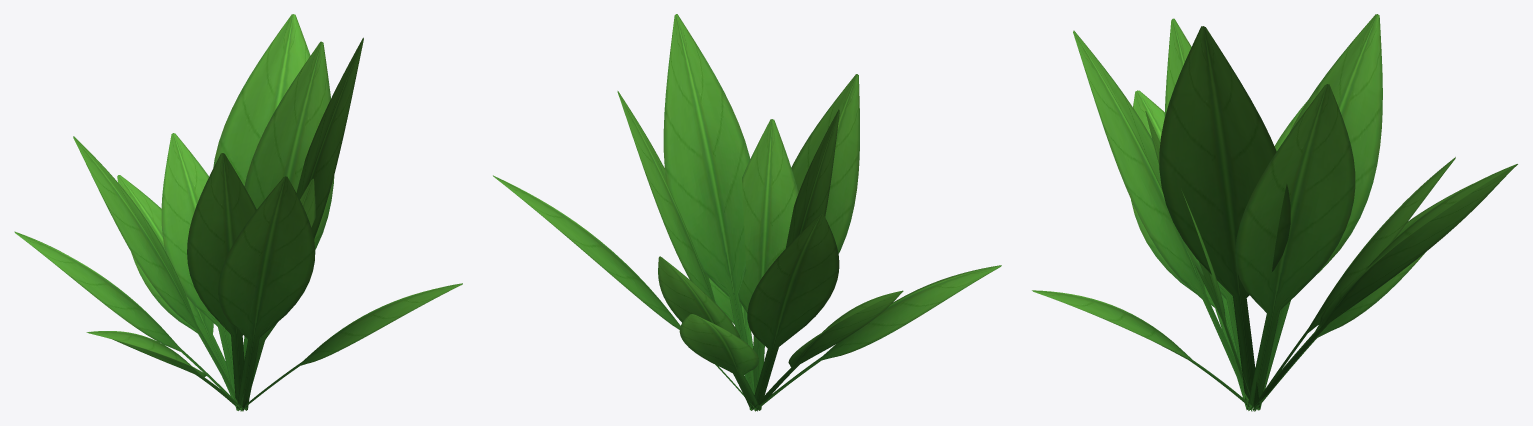
The model's file is prop_sword.glb.
3 views of the same model, side by side, from view 1: azimuth 30°, elevation 25°; view 2: azimuth 150°, elevation 25°; view 3: azimuth 270°, elevation 25° (orthographic). The views are drawn at different scales.
Parts seen in each view (by area): view 1: plant_leaf; view 2: plant_leaf; view 3: plant_leaf.
Boxes of the visible parts, x1=… form: plant_leaf: x1=14, y1=14, x2=462, y2=411; plant_leaf: x1=493, y1=14, x2=1001, y2=411; plant_leaf: x1=1032, y1=14, x2=1517, y2=411.
Bounding box in the file's own units: 0.8415 × 0.8006 × 0.7994.
1 material, 1 textured.
